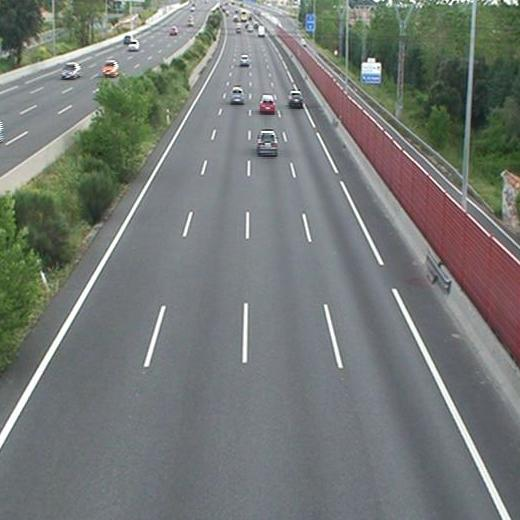car: (257, 131, 276, 154), (259, 95, 275, 113), (288, 92, 303, 106), (230, 88, 243, 103), (239, 54, 249, 65)
van: (258, 25, 264, 37)
